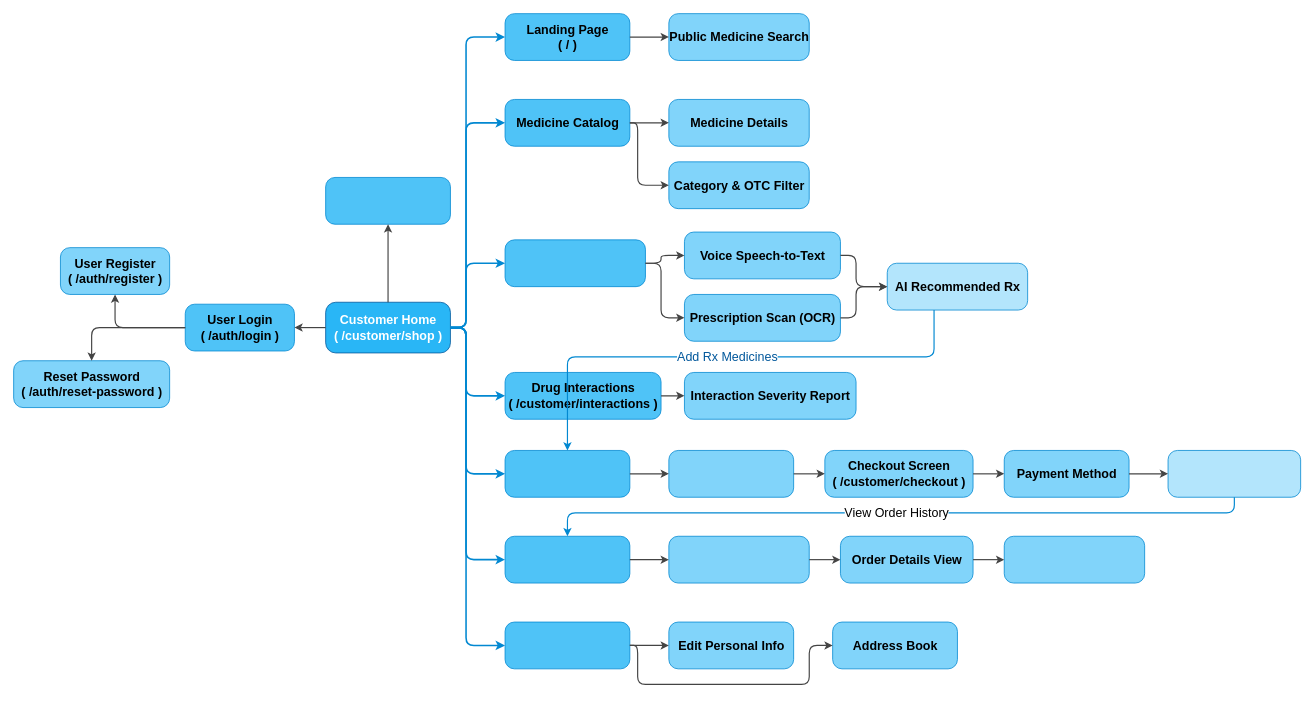
Image size: 1314x705. Some labels were removed from this diagram. Here are the shapes that lost their labels. From the top down, the centre of each, then its label:
(x=387, y=200): User Profile ( /customer/profile )
(x=574, y=263): AI Consultant ( /customer/ai-consult )
(x=567, y=473): Shopping Cart ( /customer/cart )
(x=731, y=473): Voucher Selection
(x=1234, y=473): Order Confirmation
(x=567, y=559): My Orders ( /customer/orders )
(x=738, y=559): Order Status Tracking
(x=1074, y=559): Cancel Order Request
(x=567, y=645): Profile Settings
